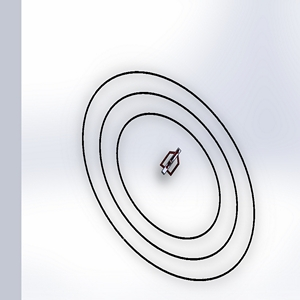circle: (68, 64, 262, 287)
submarine: (152, 141, 191, 190)
